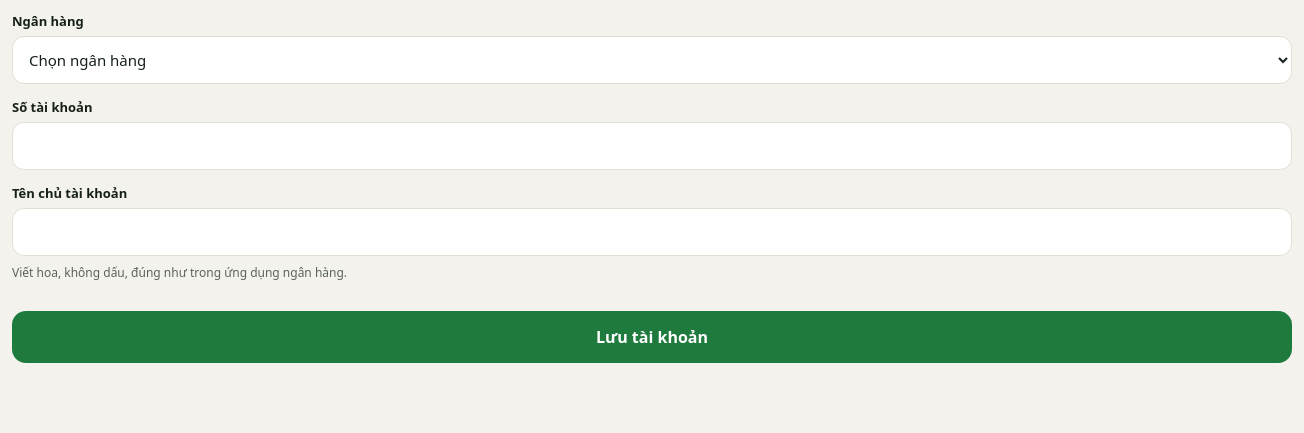
it: PayoutForm › shows the field the server rejected
Select "ACB" in the dropdown labelled "Ngân hàng": [652, 60] box [12, 36, 1292, 84]
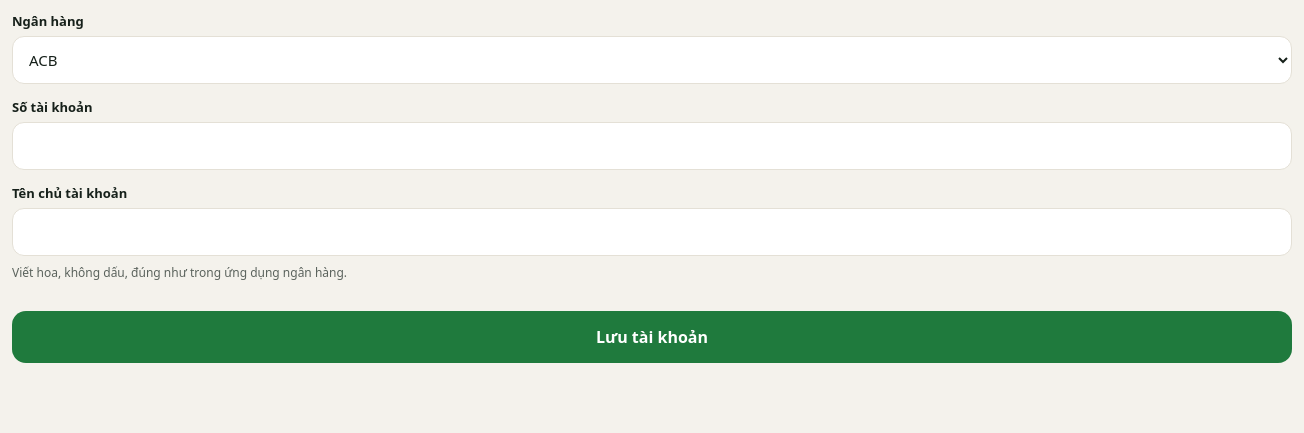
In the field labelled "Số tài khoản": [652, 146] box [12, 122, 1292, 170], type " 257678859 "
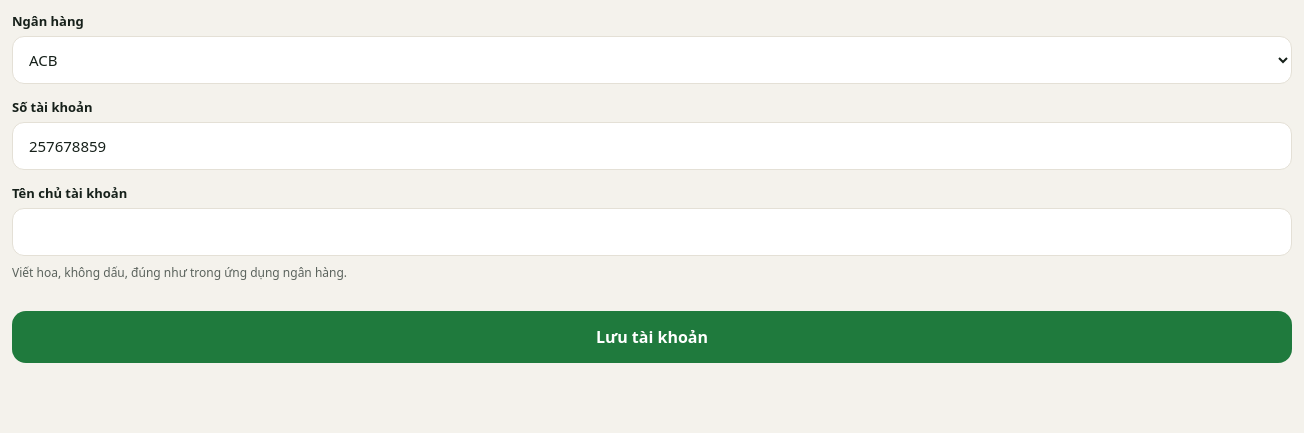
In the field labelled "Tên chủ tài khoản": [652, 232] box [12, 208, 1292, 256], type "Phạm Long"
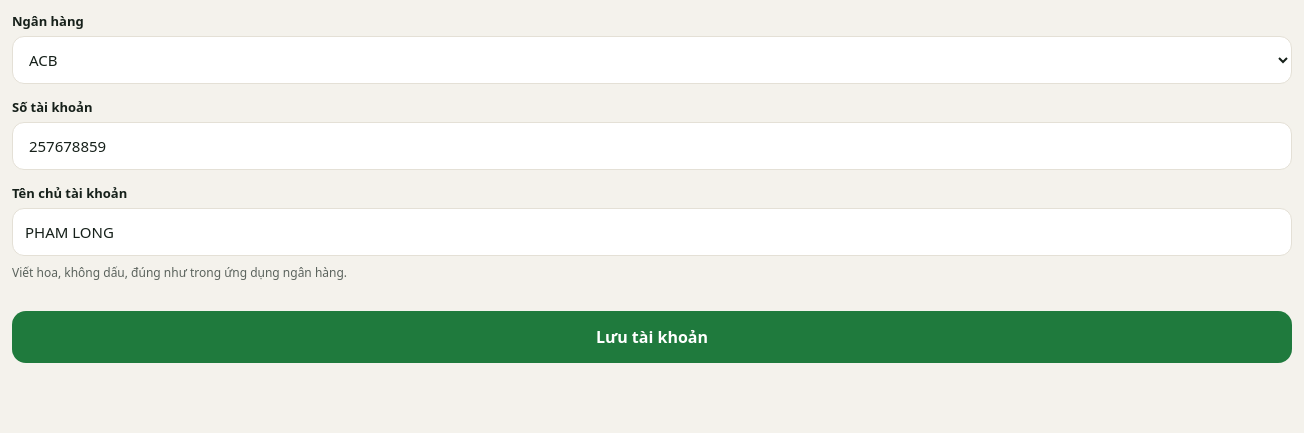
Click the button "Lưu tài khoản": [652, 337] box [12, 311, 1292, 363]
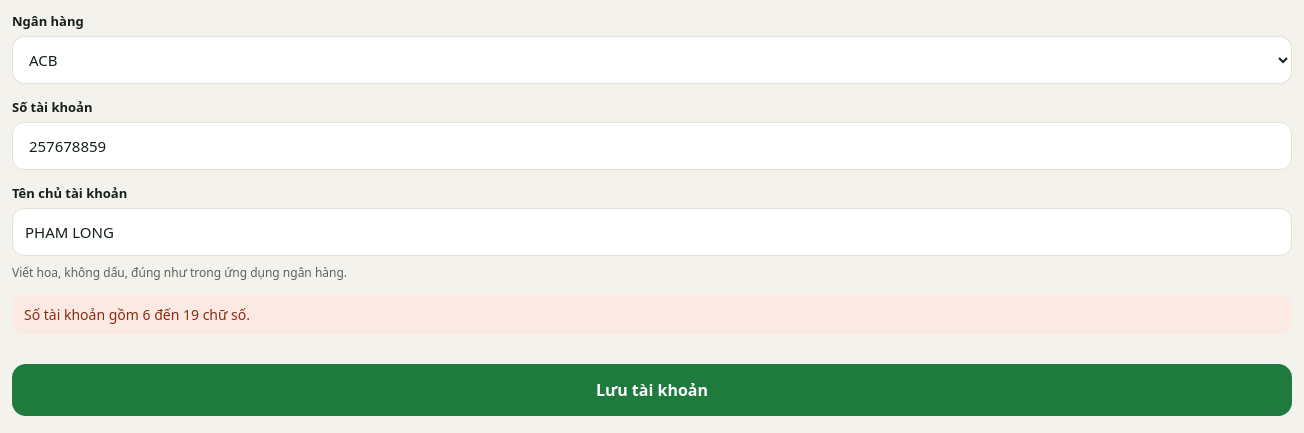
Now the message reads "Số tài khoản gồm 6 đến 19 chữ số.", box [24, 305, 250, 324]
